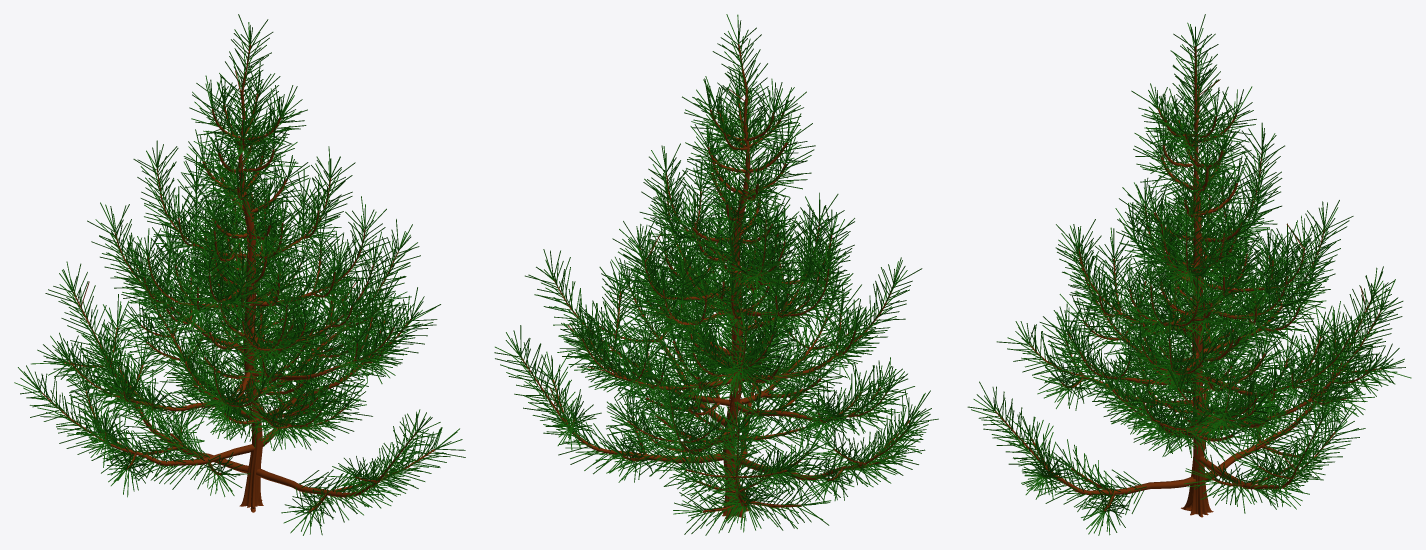
File: pine.fbx
The picture shows the model from 3 angles, left to right: view 1: azimuth 30°, elevation 25°; view 2: azimuth 150°, elevation 25°; view 3: azimuth 270°, elevation 25°; orthographic projection.
Parts seen in each view (by area): view 1: pine, trunchi; view 2: pine, trunchi; view 3: pine, trunchi.
Part boxes in pixels (x1,y1,x2,y2): pine: (14, 14, 465, 535); trunchi: (40, 44, 434, 512); pine: (494, 14, 938, 535); trunchi: (520, 44, 910, 519); pine: (967, 14, 1411, 535); trunchi: (995, 46, 1381, 517).
Size of the model in its own units: 1440 by 1701 by 1390.
